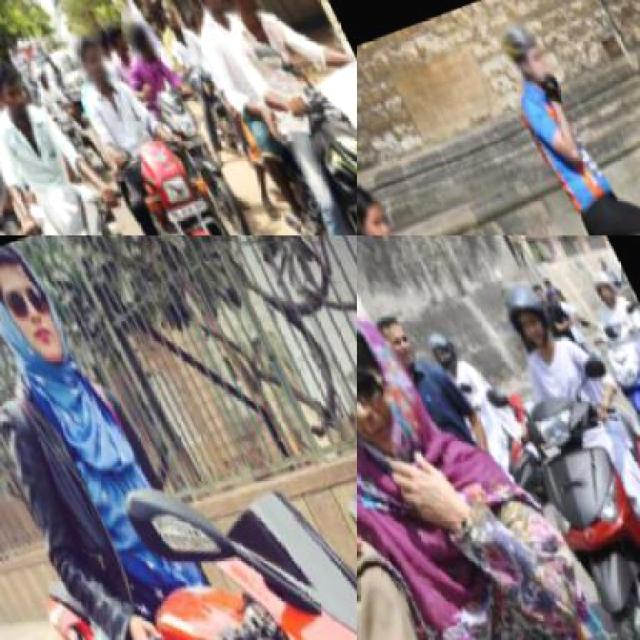With Helmet: (483, 263, 562, 357), (490, 8, 556, 88)
Without Helmet: (357, 280, 443, 480), (0, 235, 83, 377), (57, 16, 121, 92), (357, 164, 400, 233), (0, 43, 35, 123), (115, 4, 159, 58), (18, 48, 62, 100), (149, 0, 194, 42), (99, 12, 135, 58), (198, 0, 270, 20), (178, 0, 237, 20)
